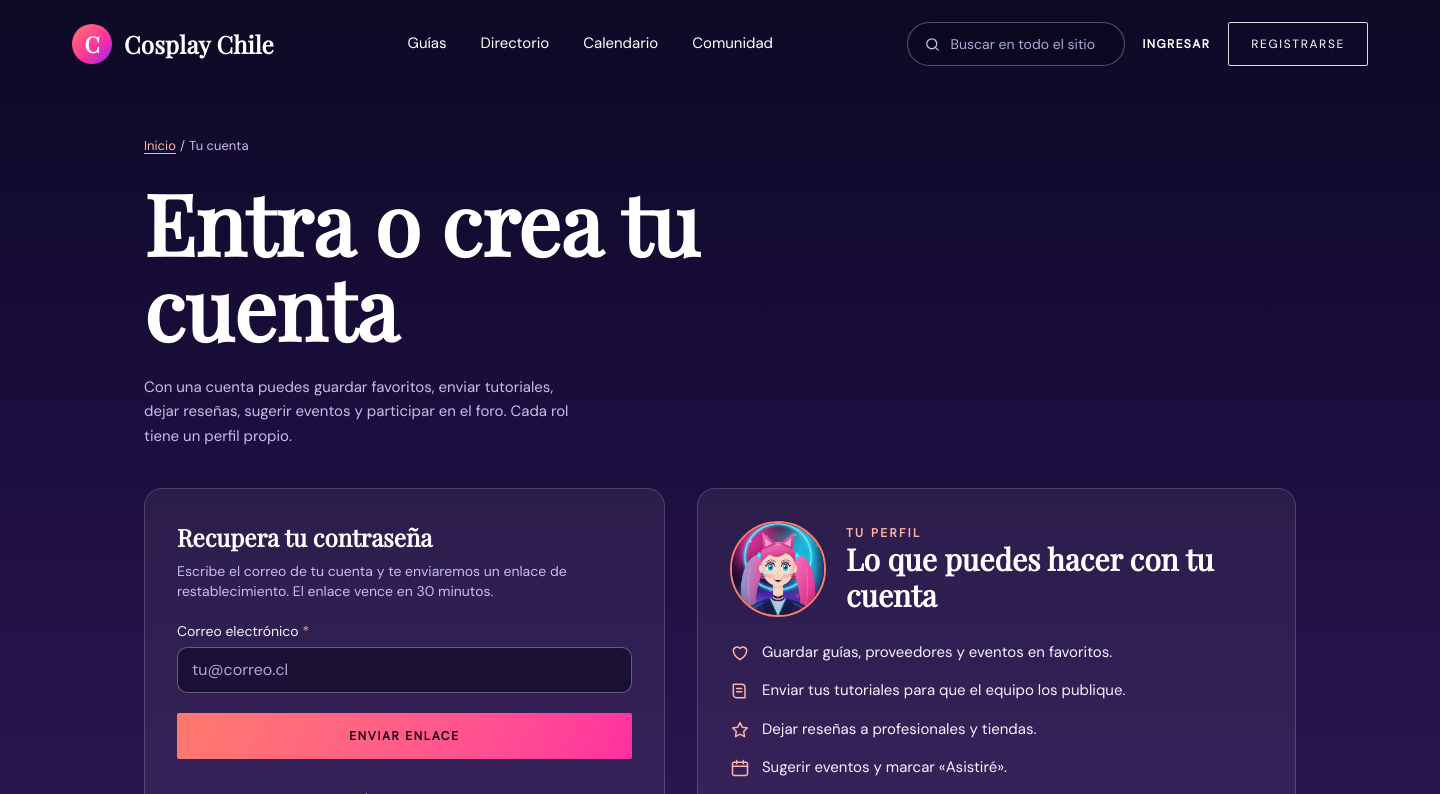
Test: Acceso (UC-01) › recuperar contraseña muestra la respuesta del servidor
Type "camila@demo.cl" into the field labelled "Correo electrónico *".
click(404, 670); type("camila@demo.cl")  # box x1=177 y1=647 x2=632 y2=693
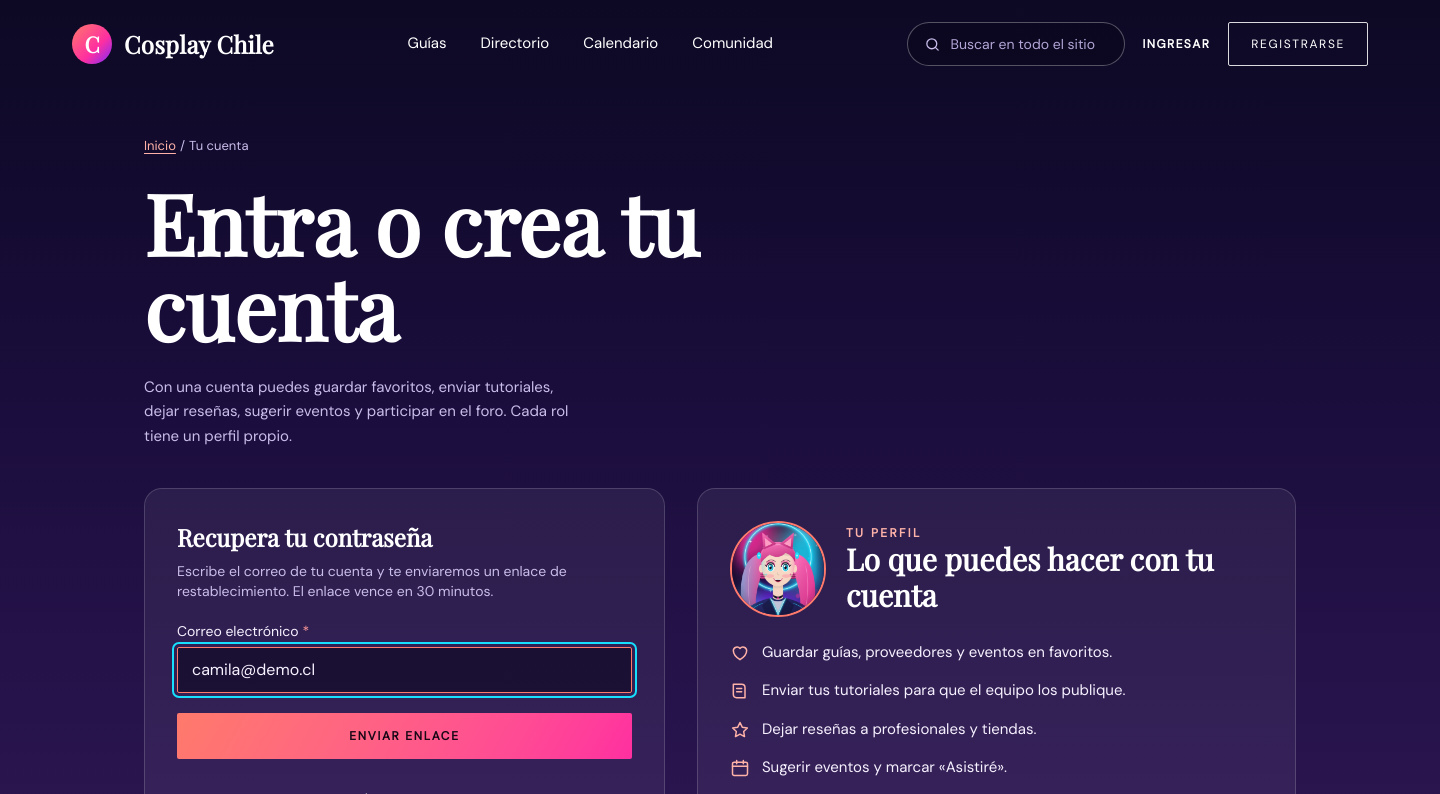
Click the button "Enviar enlace".
click(404, 736)  # box x1=177 y1=713 x2=632 y2=759
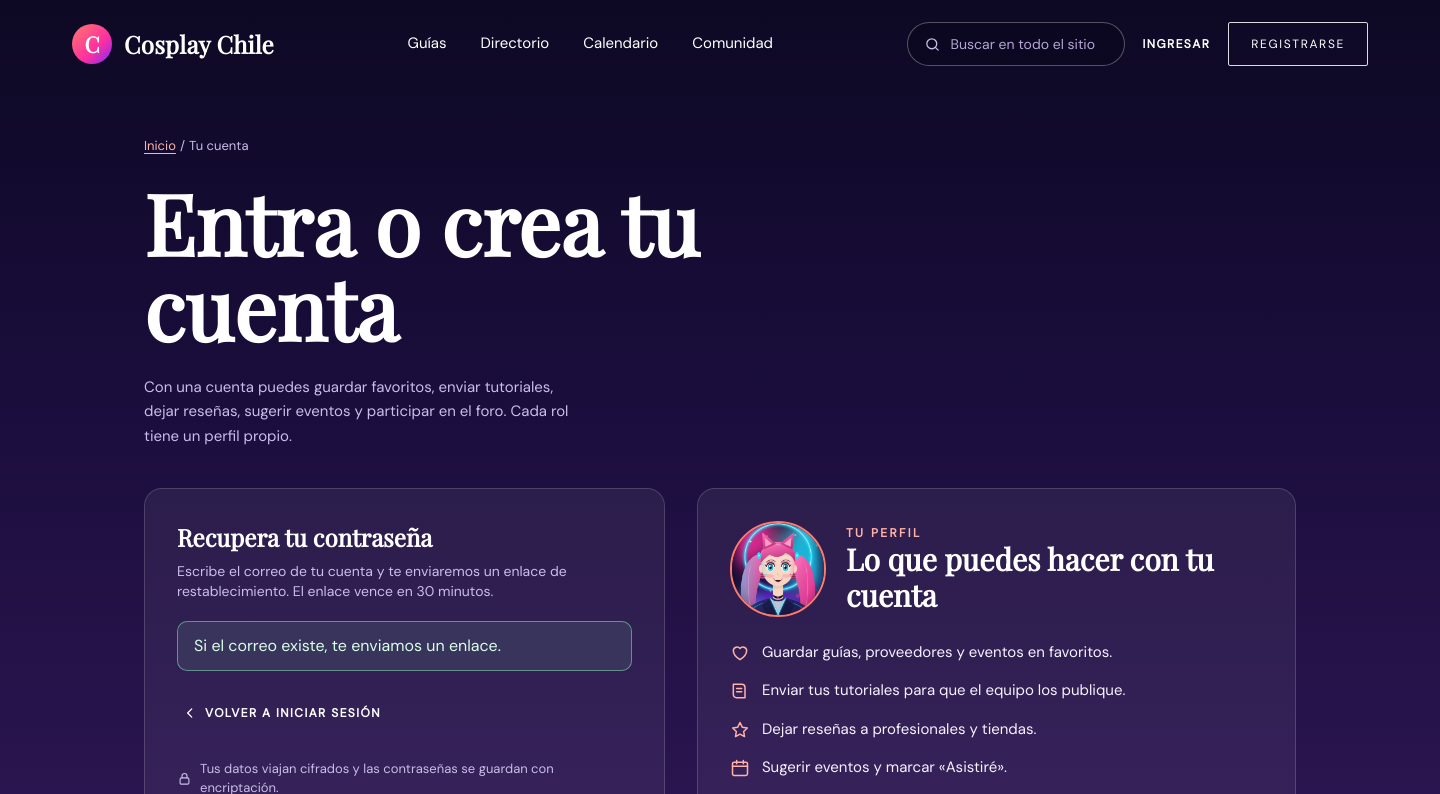
Result: the text "Si el correo existe, te enviamos un enlace." is shown at x1=177 y1=621 x2=632 y2=671
